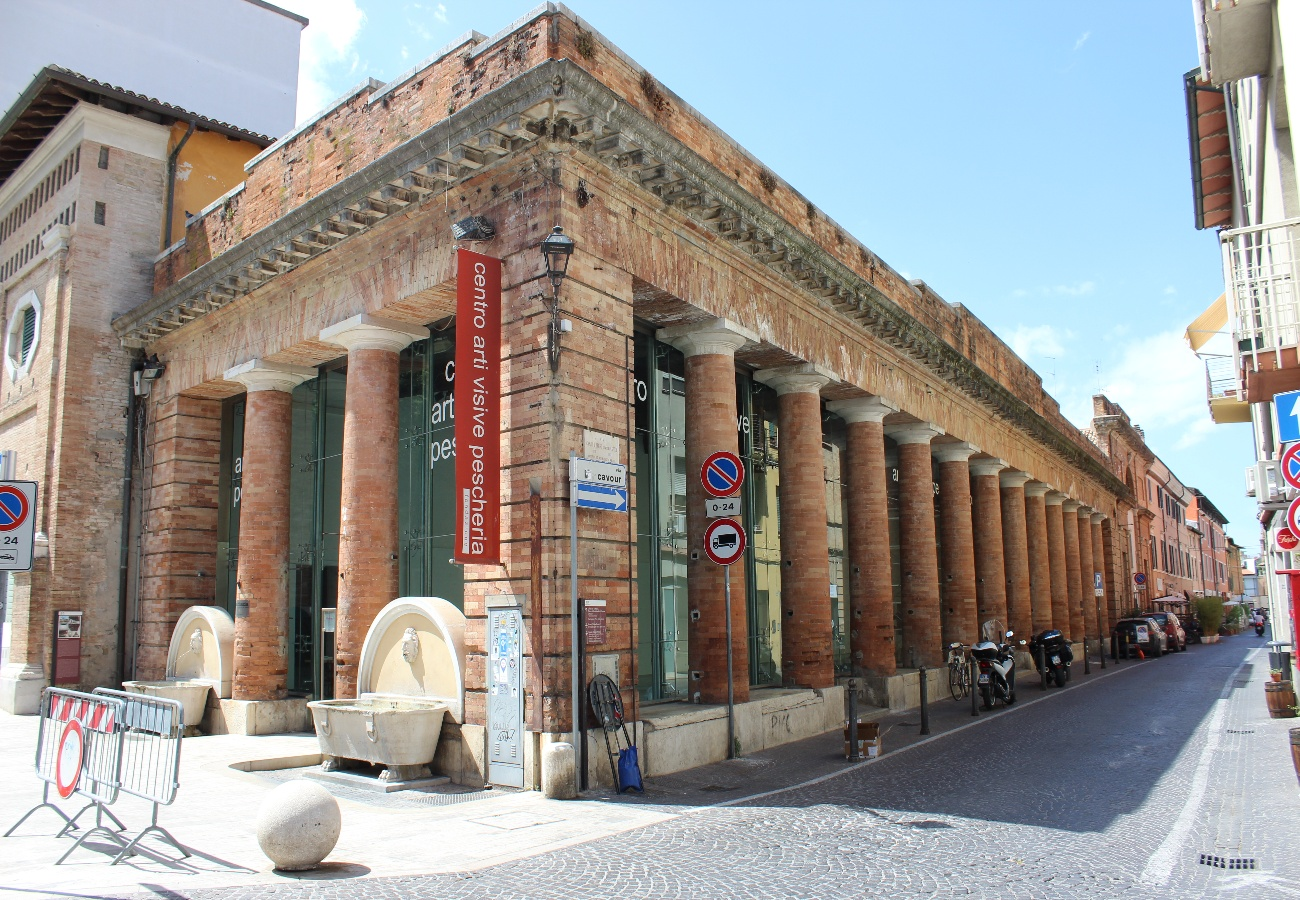Centro Arti Visive Pescheria: (102, 1, 560, 789)
